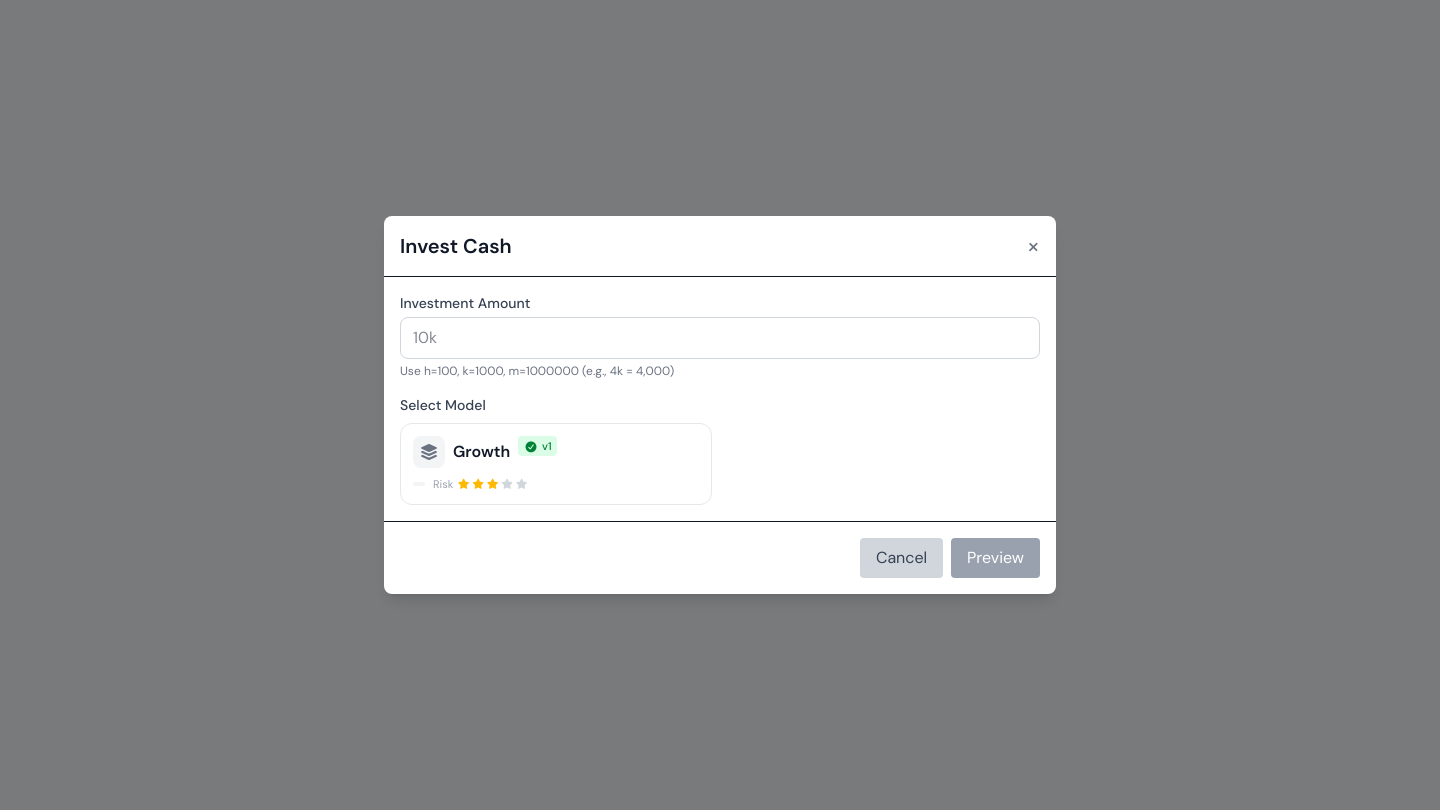
Test case: InvestCashDialog price editing › shows the snapshot price at full precision, not rounded to 2dp
Type "5000" into the field with placeholder "10k" at {"x": 720, "y": 338}, box [400, 317, 1040, 359]
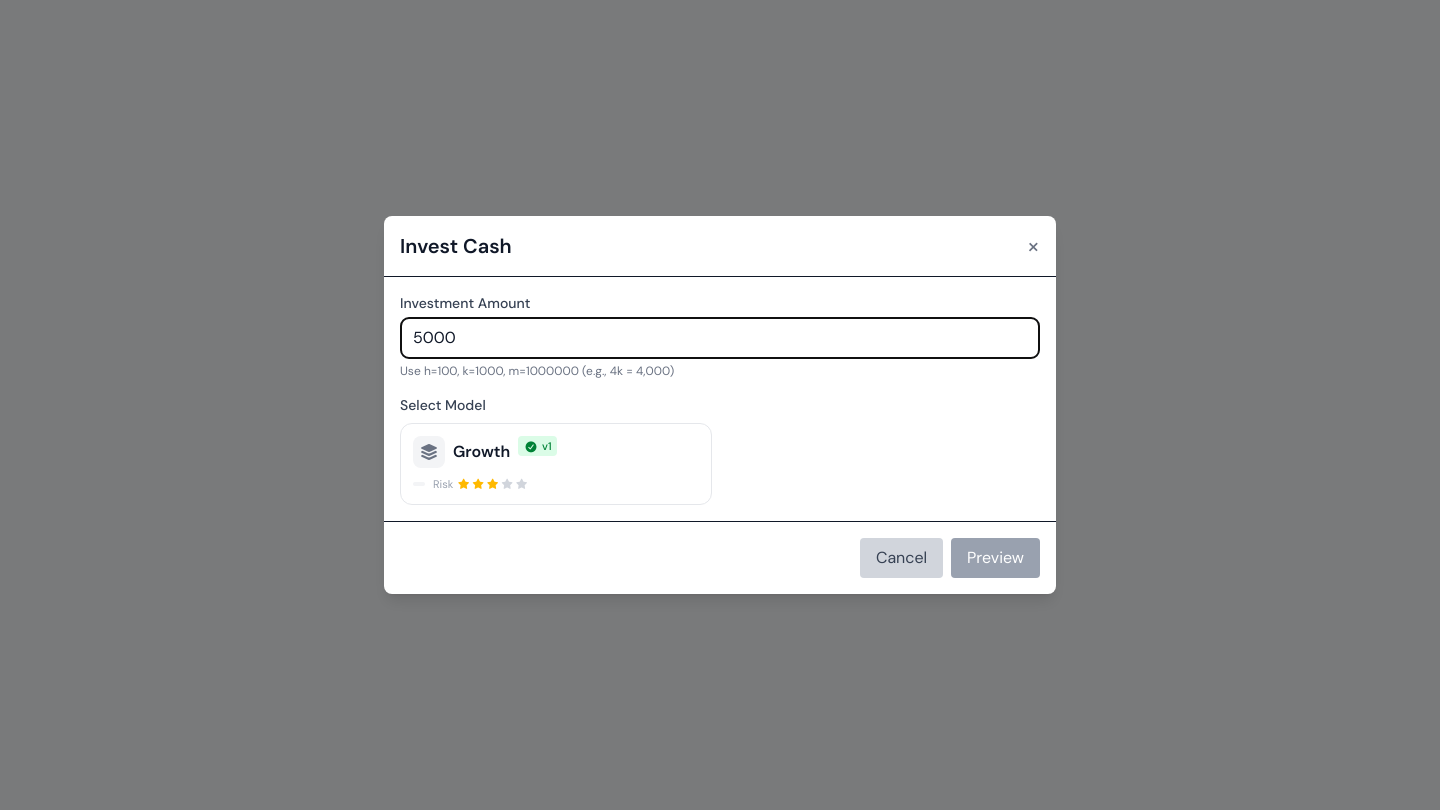
Click the text "Growth" at {"x": 482, "y": 452}, box [453, 440, 510, 464]
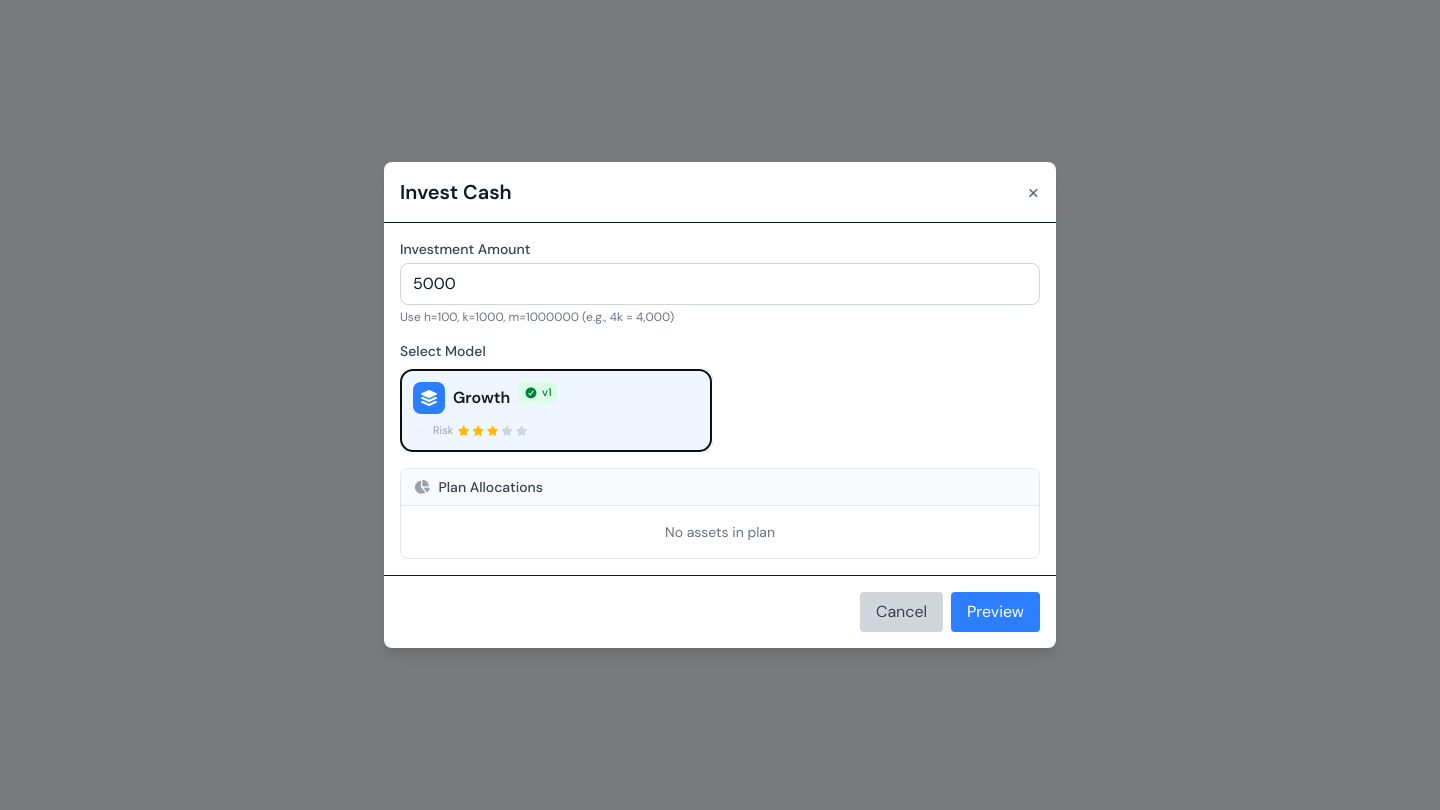
Click the button "Preview" at {"x": 996, "y": 612}, box [951, 592, 1040, 632]
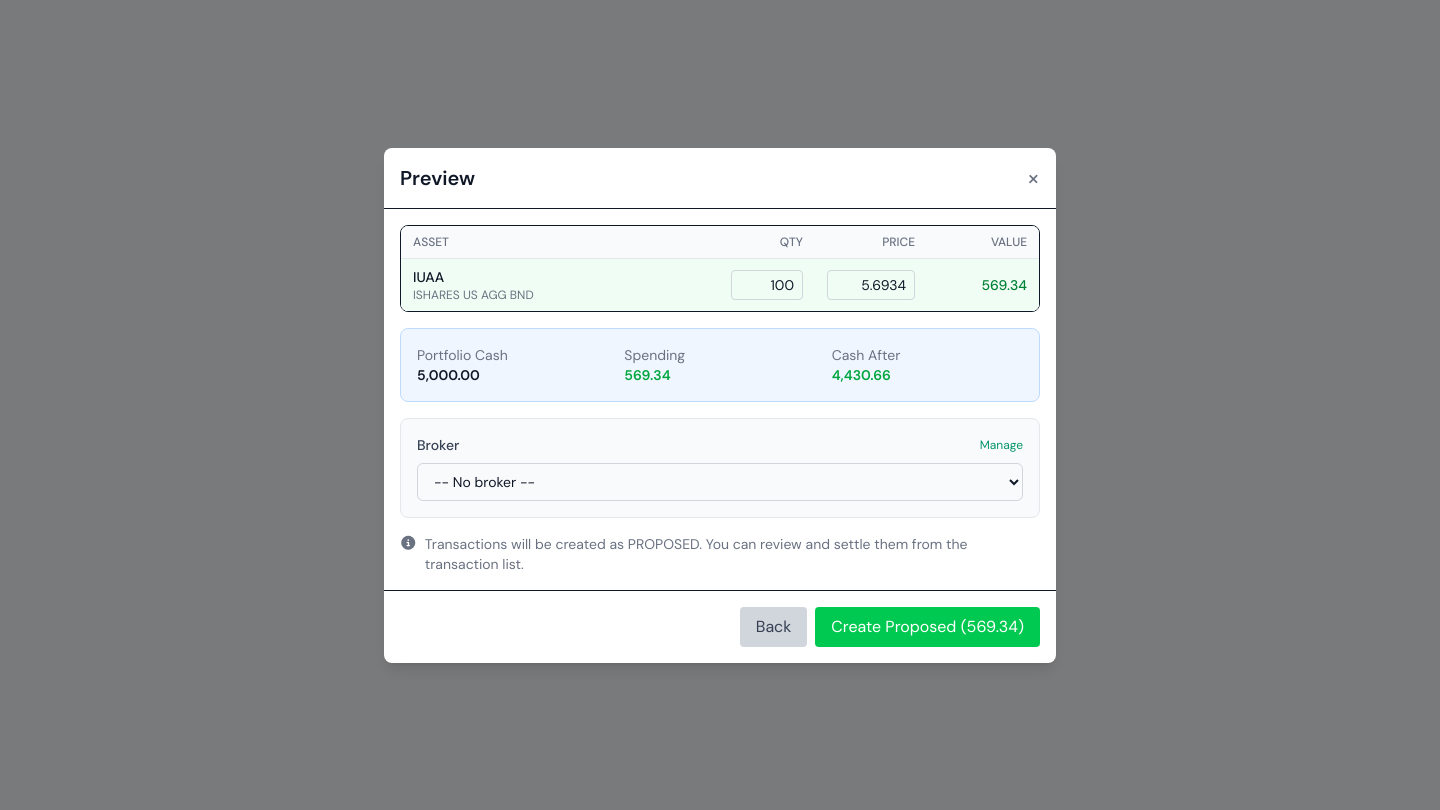
Expected: the number of fields labelled "Price" is 2
